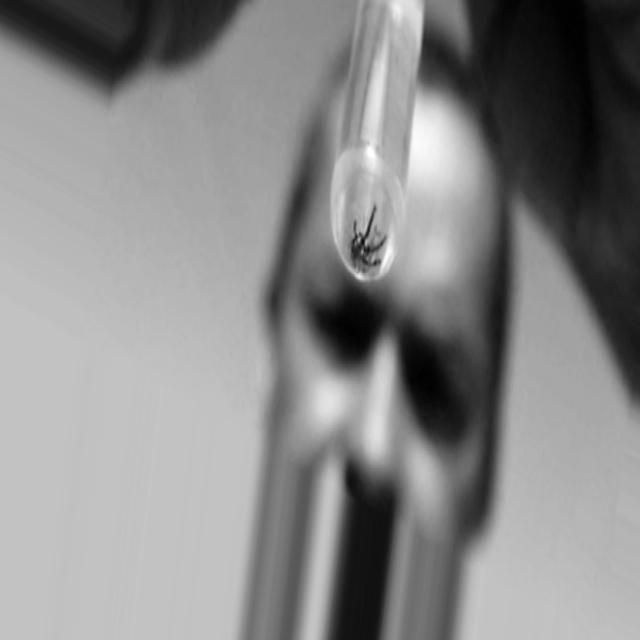larvas: (354, 204, 380, 258), (363, 234, 389, 256), (350, 223, 360, 247), (362, 257, 381, 267)
